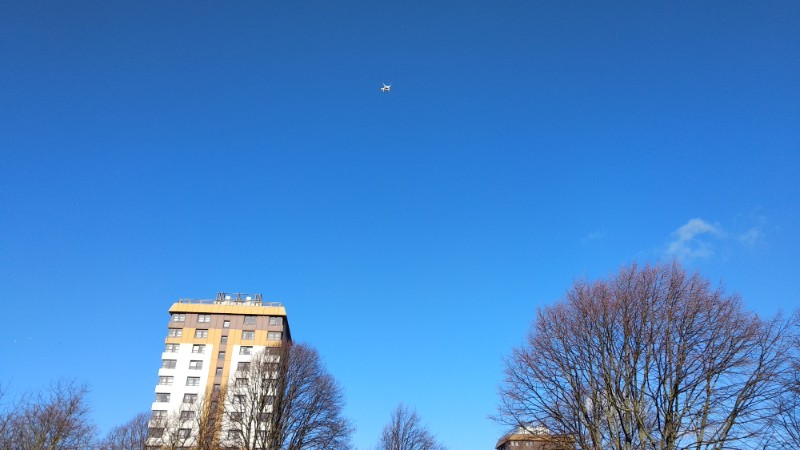drone: (379, 82, 392, 94)
